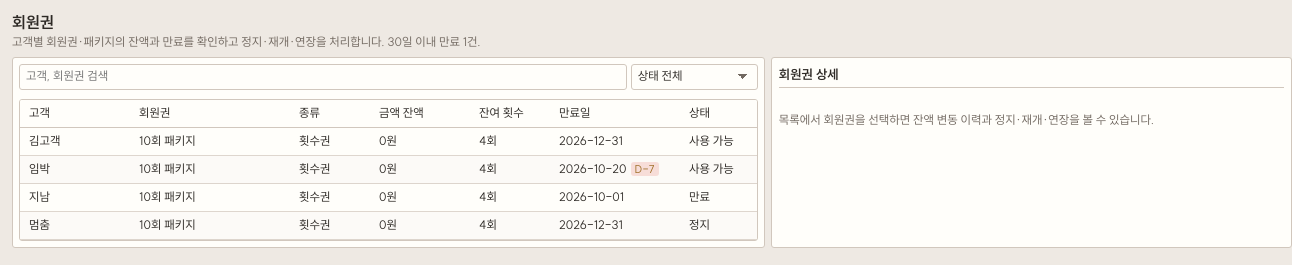
Scenario: WAL-10 지갑 목록 › 30일 이내 만료는 D-n 으로 강조하고 상태 필터에서 모아 본다
The width and height of the screenshot is (1292, 265).
Expected: the text "임박" is shown, left=20, top=156, right=130, bottom=184
Expected: the text "D-7" is shown once, left=630, top=162, right=659, bottom=176
Select "만료 임박 30일 (1)" in the dropdown named "회원권 상태 필터" at (694, 77), box left=631, top=64, right=758, bottom=90
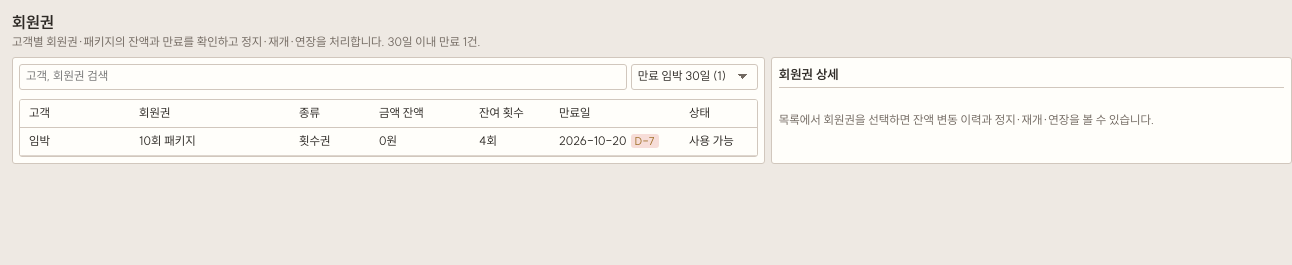
Expected: the text "임박" is shown, left=20, top=128, right=130, bottom=156
Expected: the text "김고객" is gone
Select "만료" in the dropdown named "회원권 상태 필터" at (694, 77), box left=631, top=64, right=758, bottom=90
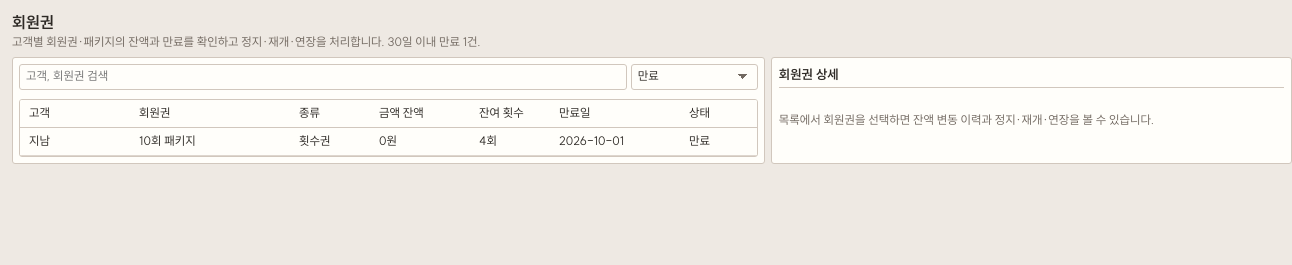
Expected: the text "지남" is shown, left=20, top=128, right=130, bottom=156
Expected: the text "임박" is gone
Select "정지" in the dropdown named "회원권 상태 필터" at (694, 77), box left=631, top=64, right=758, bottom=90
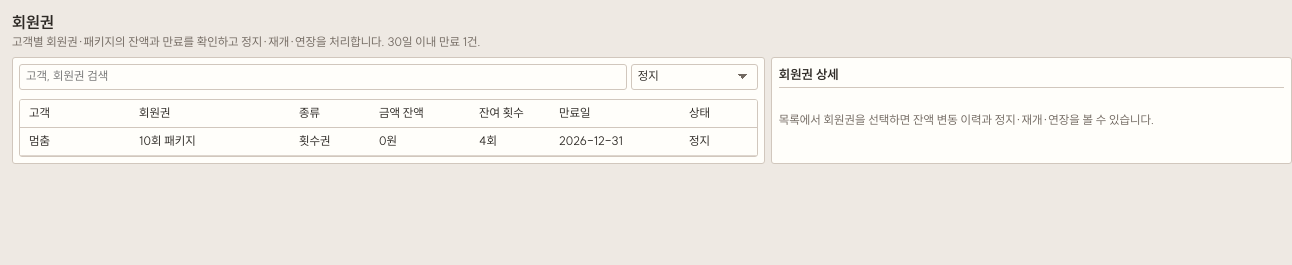
Expected: the text "임박" is not shown
Expected: the text "멈춤" is shown, left=20, top=128, right=130, bottom=156
